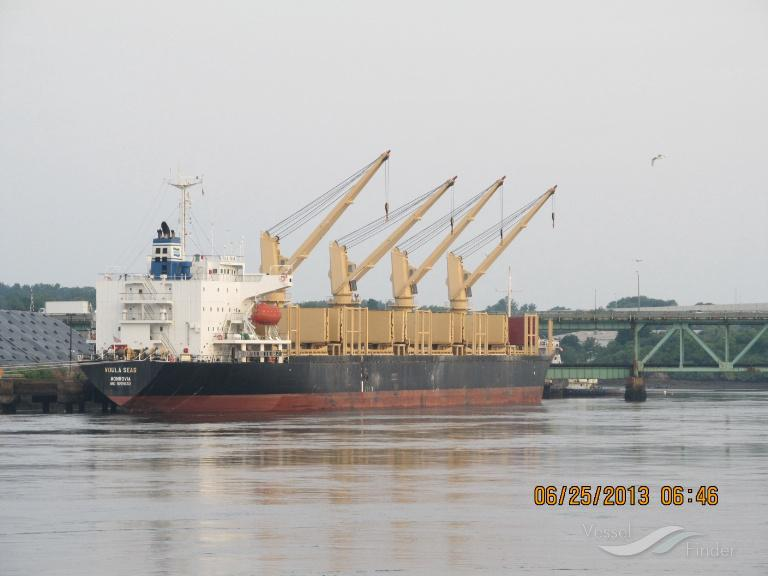OCR: (98, 361, 140, 396)
